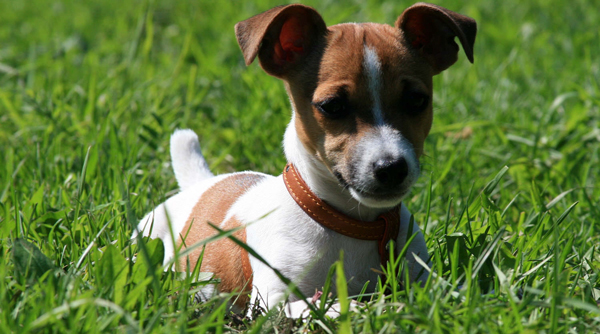dog: (115, 9, 489, 307)
